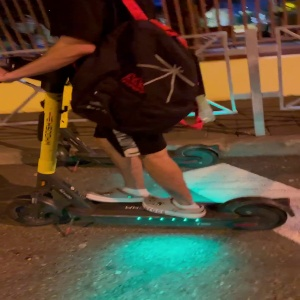human on a scooter: (1, 1, 296, 258)
